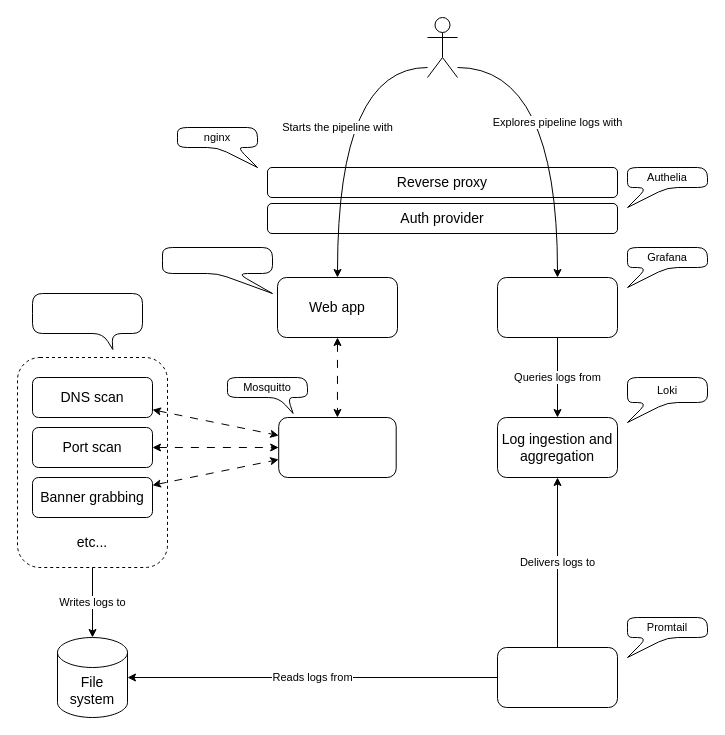
Some shapes in this 725 by 735 pixel diagram are drawn without their labels. The centre of each missing label's shape, as x and y in pixels:
Cybersec analyst: point (442, 47)
Log deliverer: point (557, 677)
Log visualizer and explorer: point (557, 307)
Message broker: point (337, 447)
Python + command line tools: point (87, 321)
Vue.js and FastAPI: point (217, 270)
